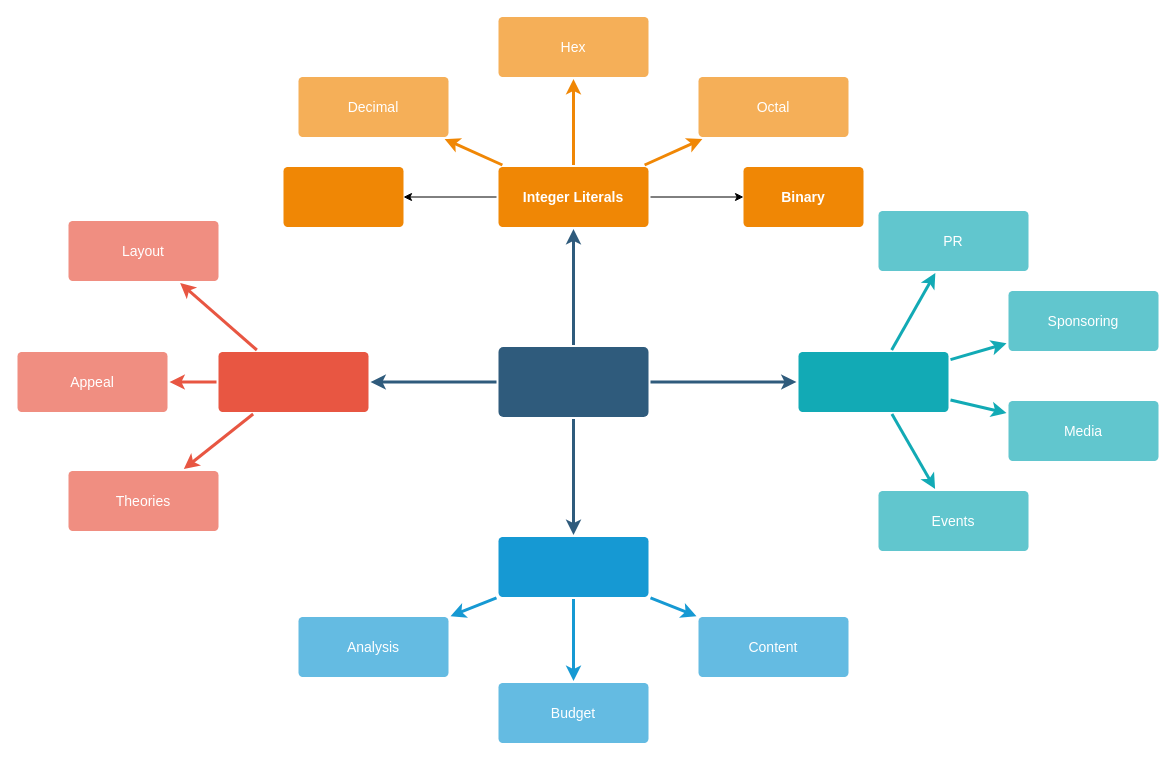
Image size: 1175x760. Some labels were removed from this diagram. Each missing label, with the centre of its shape:
Communication: [873,382]
Data Types: [573,381]
Embassy: [293,382]
Organization: [573,566]
